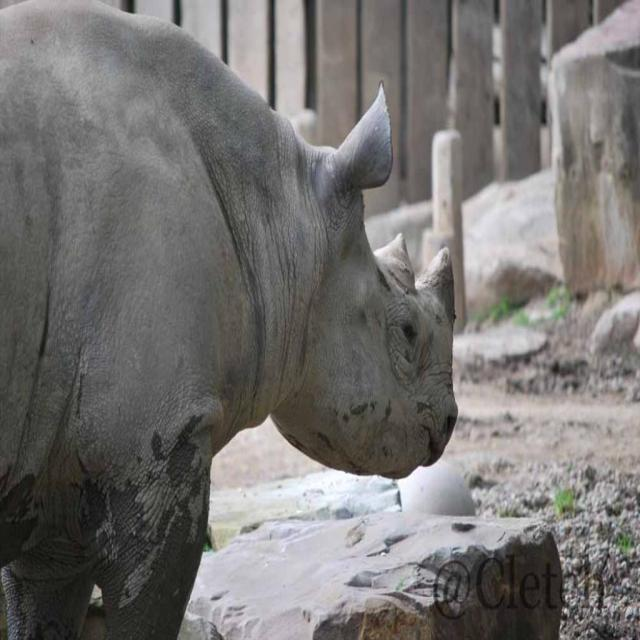rhino: (2, 40, 500, 599)
